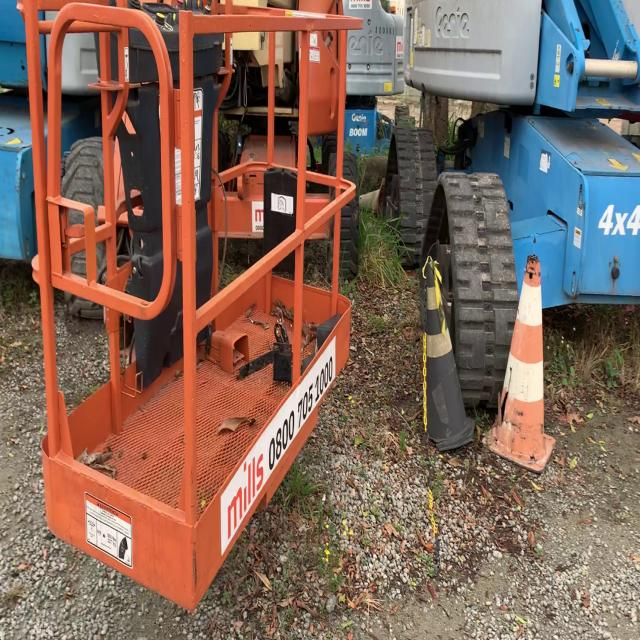Adesivo Longo: (218, 331, 338, 560)
